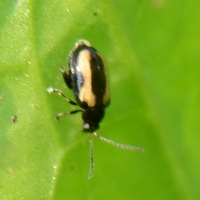insect: (46, 40, 143, 178)
